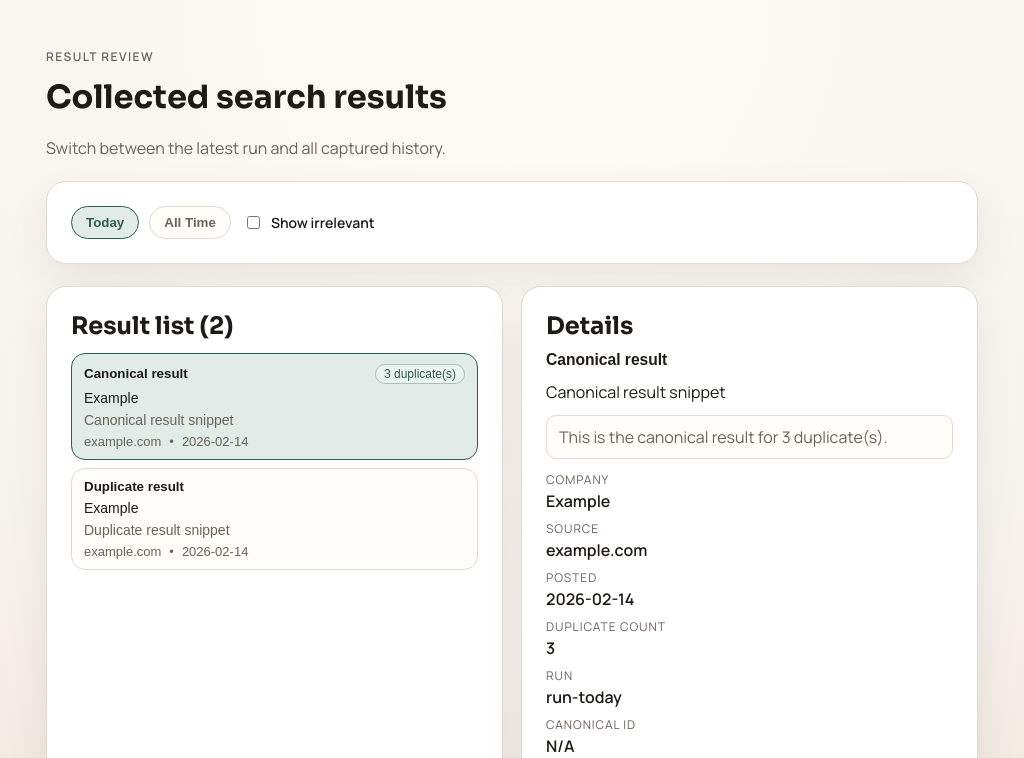
Test: ResultsPage › shows canonical context and safe source links in detail pane
Expected: the text "This is the canonical result for 3 duplicate(s)." is shown, [546, 415, 953, 459]
What coordinates should you click on to do the following:
click the button "Duplicate result"
I would click on:
 (134, 486)
Its box is [72, 469, 477, 569].
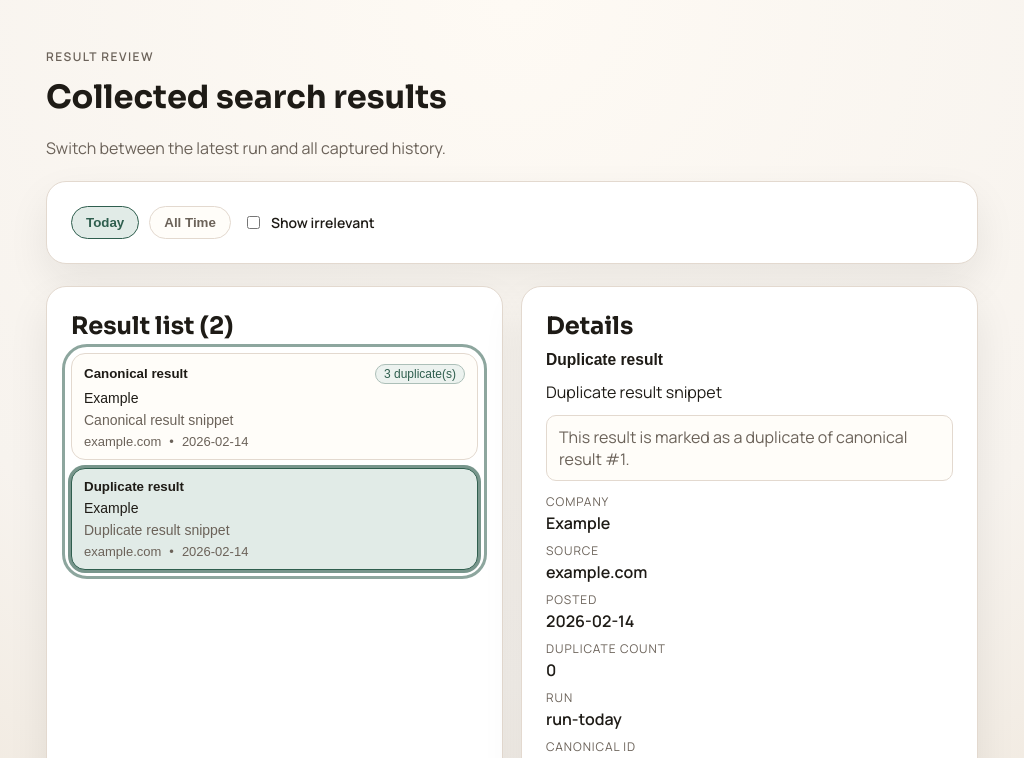
Expected: the text "This result is marked as a duplicate of canonical result #1." is shown, [546, 415, 953, 481]
